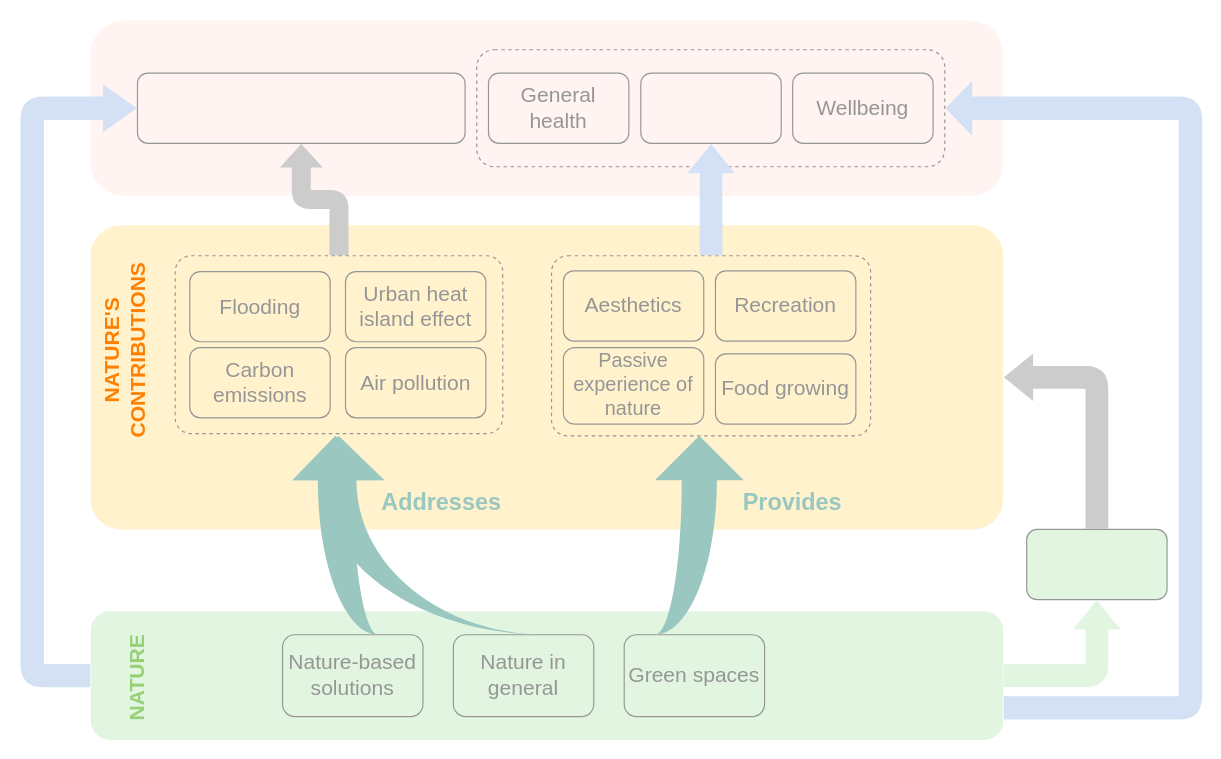
Some shapes in this 1221 by 759 pixel diagram are drawn without their labels. The centre of each missing label's shape, as x and y in pixels:
"Adaptation to climate change" goes at pixel 300 107.
"Biodiversity" goes at pixel 1096 564.
"Mental health" goes at pixel 710 107.
